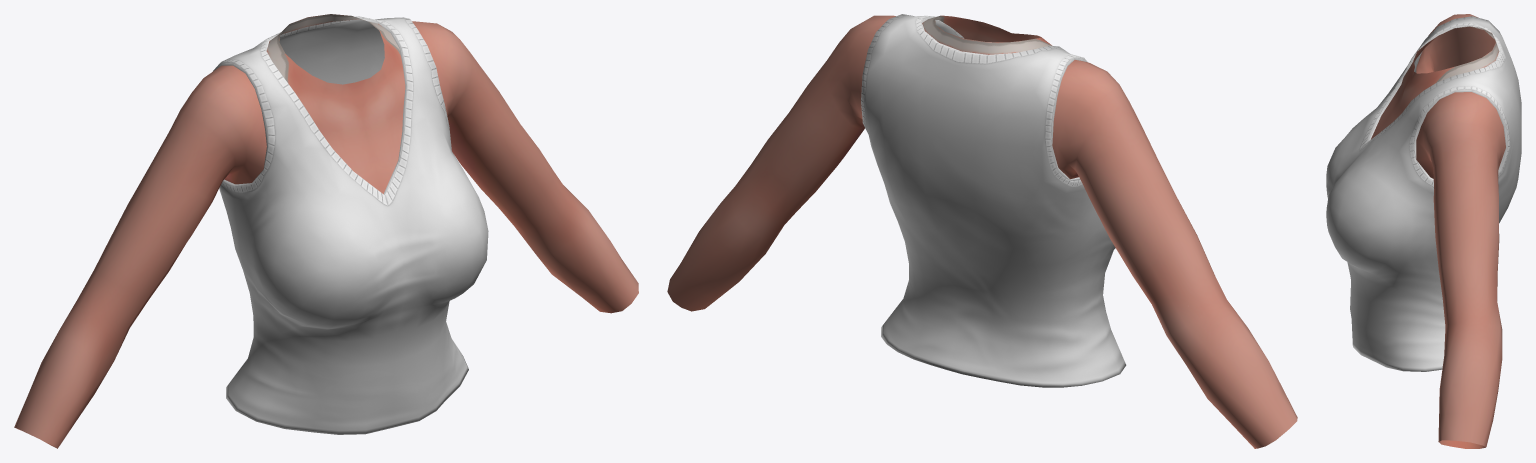
File: Shirt_var_05.FBX
3 renders of one model, left to right at view 1: azimuth 30°, elevation 25°; view 2: azimuth 150°, elevation 25°; view 3: azimuth 270°, elevation 25°, orthographic. The views are drawn at different scales.
Parts seen in each view (by area): view 1: shirt_var_05; view 2: shirt_var_05; view 3: shirt_var_05.
Boxes of the visible parts, x1,y1,x2,y2 form: shirt_var_05: [14, 14, 638, 448]; shirt_var_05: [667, 14, 1297, 448]; shirt_var_05: [1326, 14, 1521, 448].
Size of the model in its own units: 62.19 by 33.89 by 20.34.
Materials: 1 (1 with a texture image).
